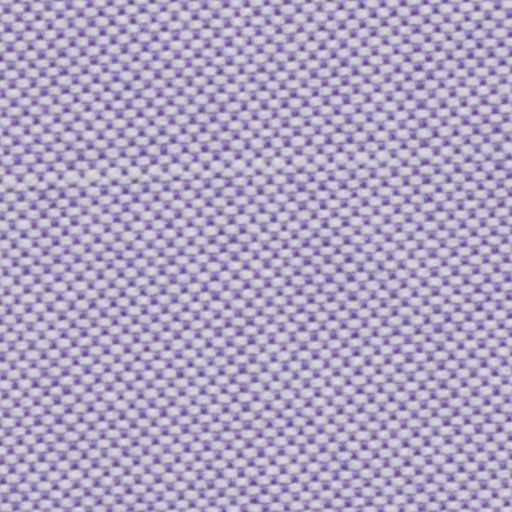TuoSha: (8, 136, 493, 234)
